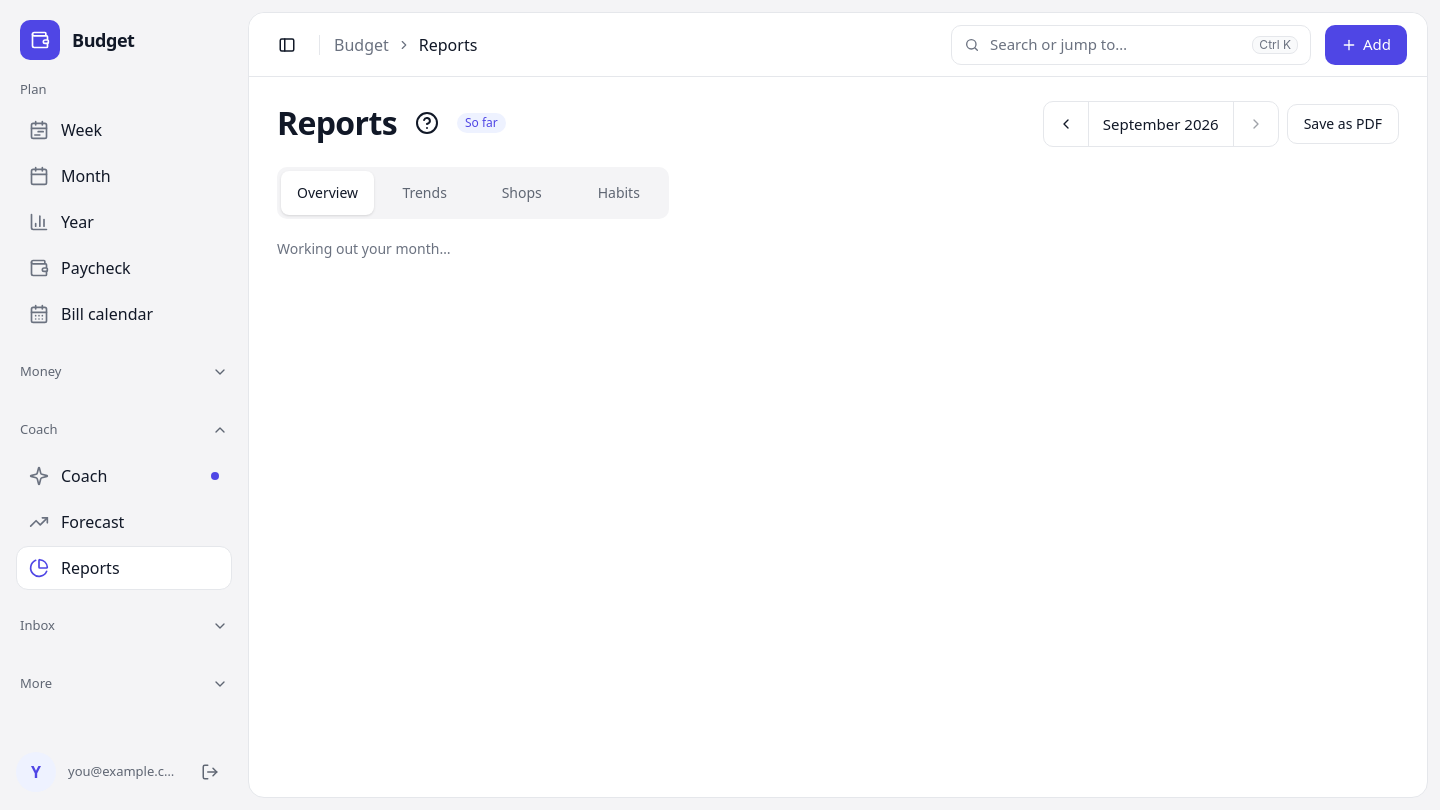
Test: Reports, Shops: subscriptions › says in one line that marking needs a one-time update without 0017, and still lists every charge
The width and height of the screenshot is (1440, 810).
Step 1. Click the tab "Shops" → (522,193), box [475,171,568,215]
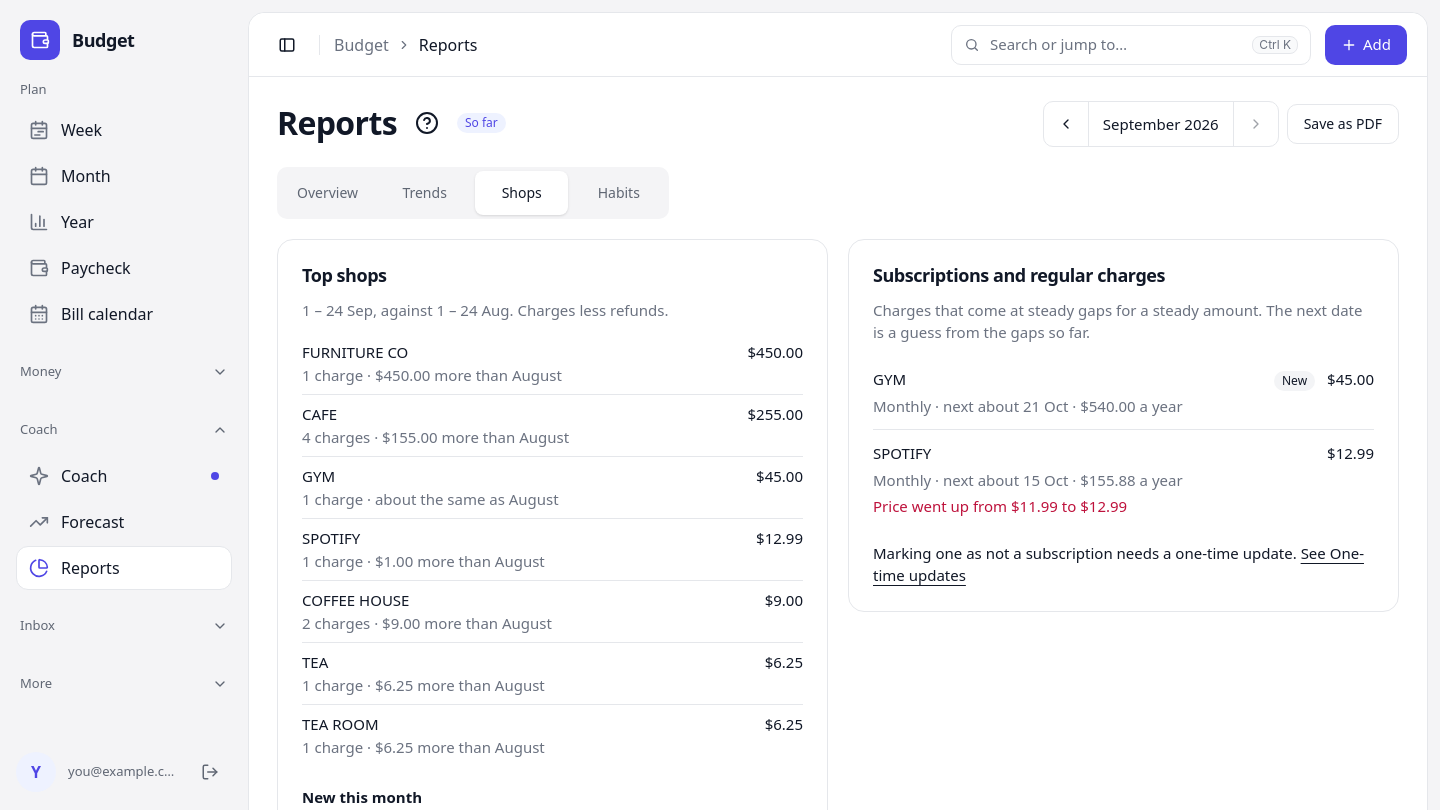
Now the text "Marking one as not a subscription needs a one-time update." is shown, box [873,542,1297,562]
